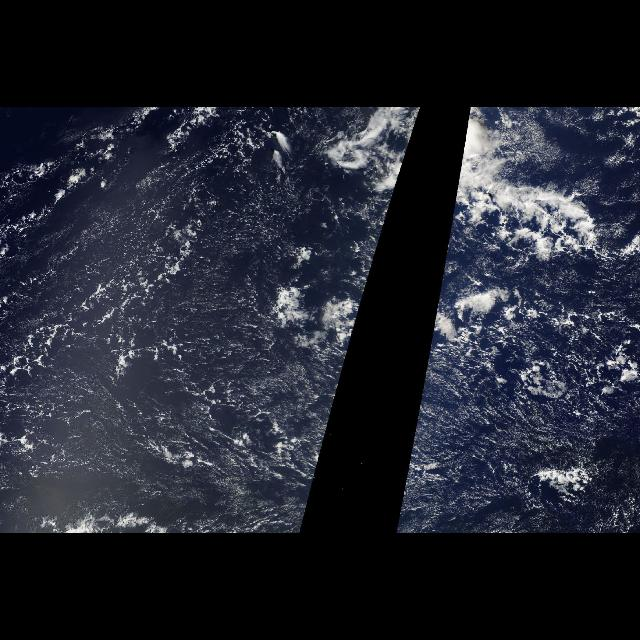Gravel: (22, 225, 214, 385), (466, 303, 640, 415)
Sugar: (18, 154, 336, 496), (427, 285, 637, 527)
